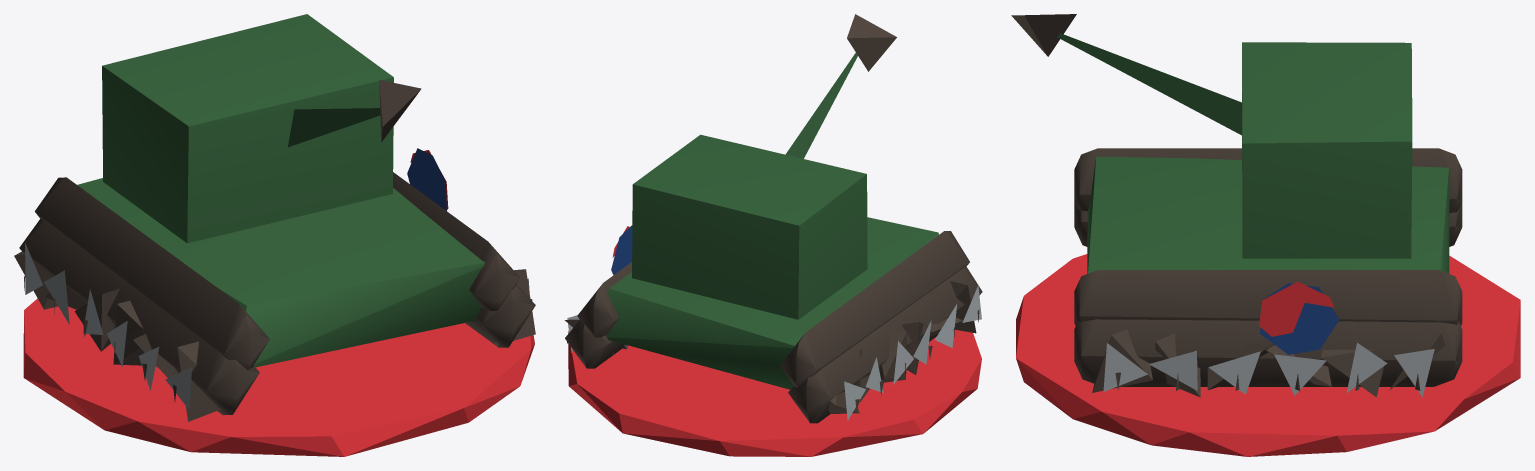
File: south_korea_artillery_lod1.glb
3 renders of one model, left to right at view 1: azimuth 30°, elevation 25°; view 2: azimuth 150°, elevation 25°; view 3: azimuth 270°, elevation 25°, orthographic. The views are drawn at different scales.
Parts seen in each view (by area): view 1: body_hull, base_pedestal; view 2: body_hull, base_pedestal; view 3: body_hull, base_pedestal.
Boxes of the visible parts, <box> form: body_hull: <box>14,14,535,421</box>; base_pedestal: <box>23,298,534,456</box>; body_hull: <box>564,14,982,423</box>; base_pedestal: <box>568,329,981,456</box>; body_hull: <box>1011,14,1462,397</box>; base_pedestal: <box>1016,254,1520,456</box>.
Size of the model in its own units: 0.7709 by 0.5717 by 0.7672.
